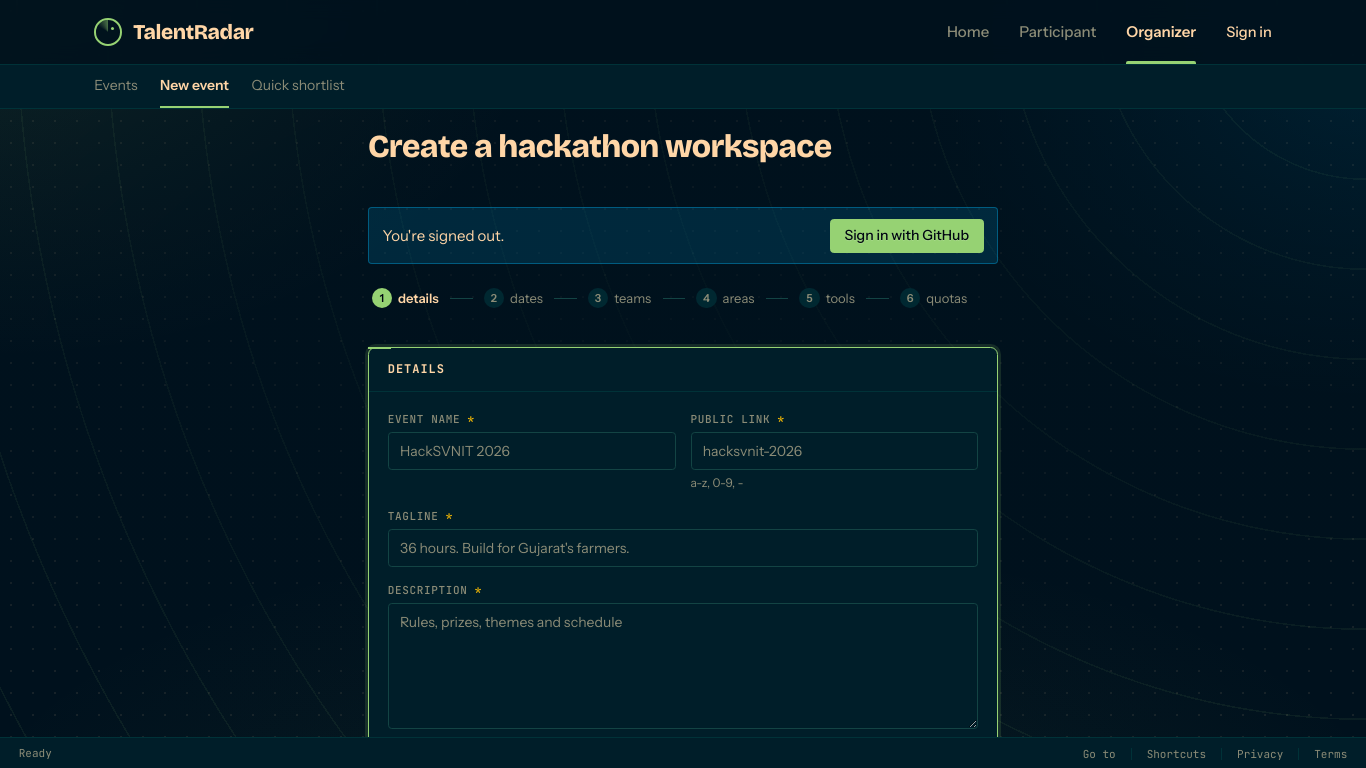
it: TalentRadar application shell › provides a separate organizer console and validates the event wizard
Expected: the heading "Create a hackathon workspace" is shown, [368,128,832,166]
Type "Build Night" into the field labelled "Event name *" at (532, 451), box [388,432,676,470]
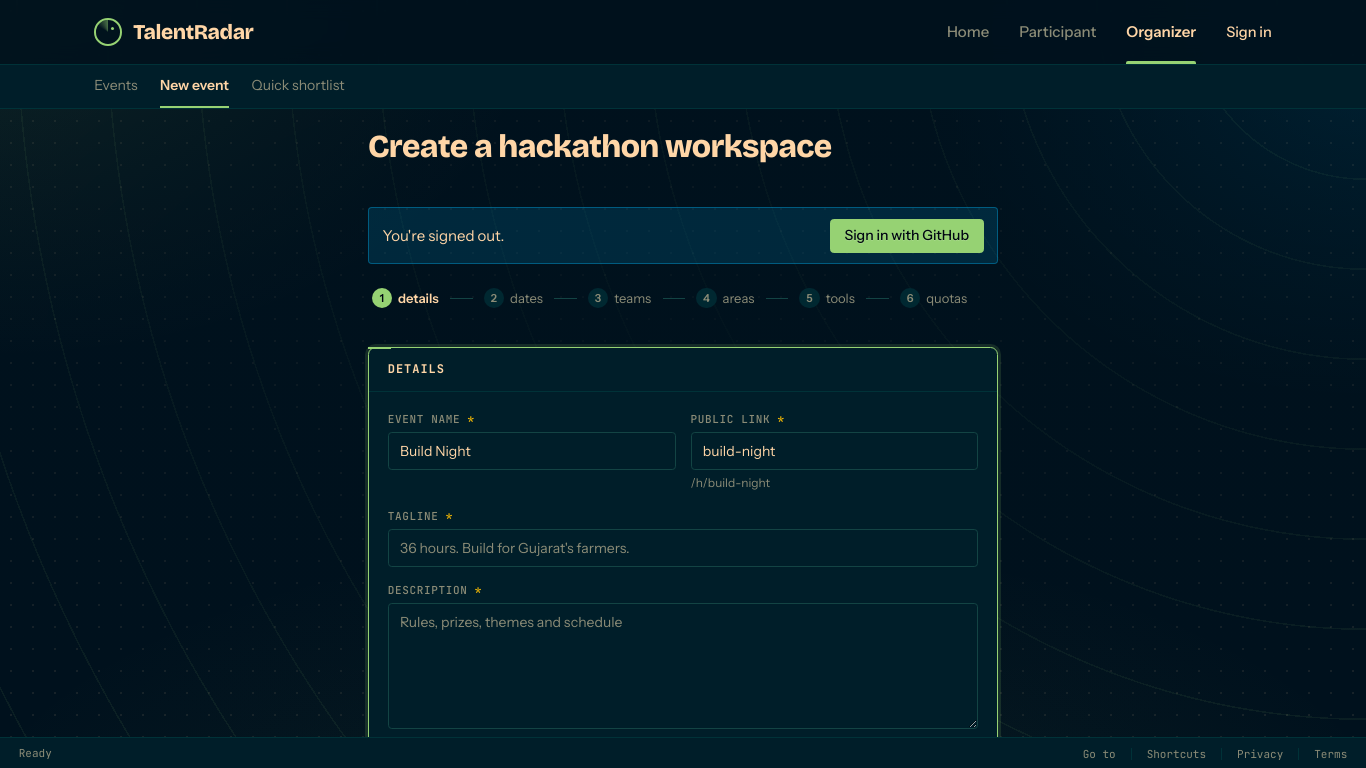
Type "Build a useful product" into the field labelled "Tagline *" at (683, 548), box [388,529,978,567]
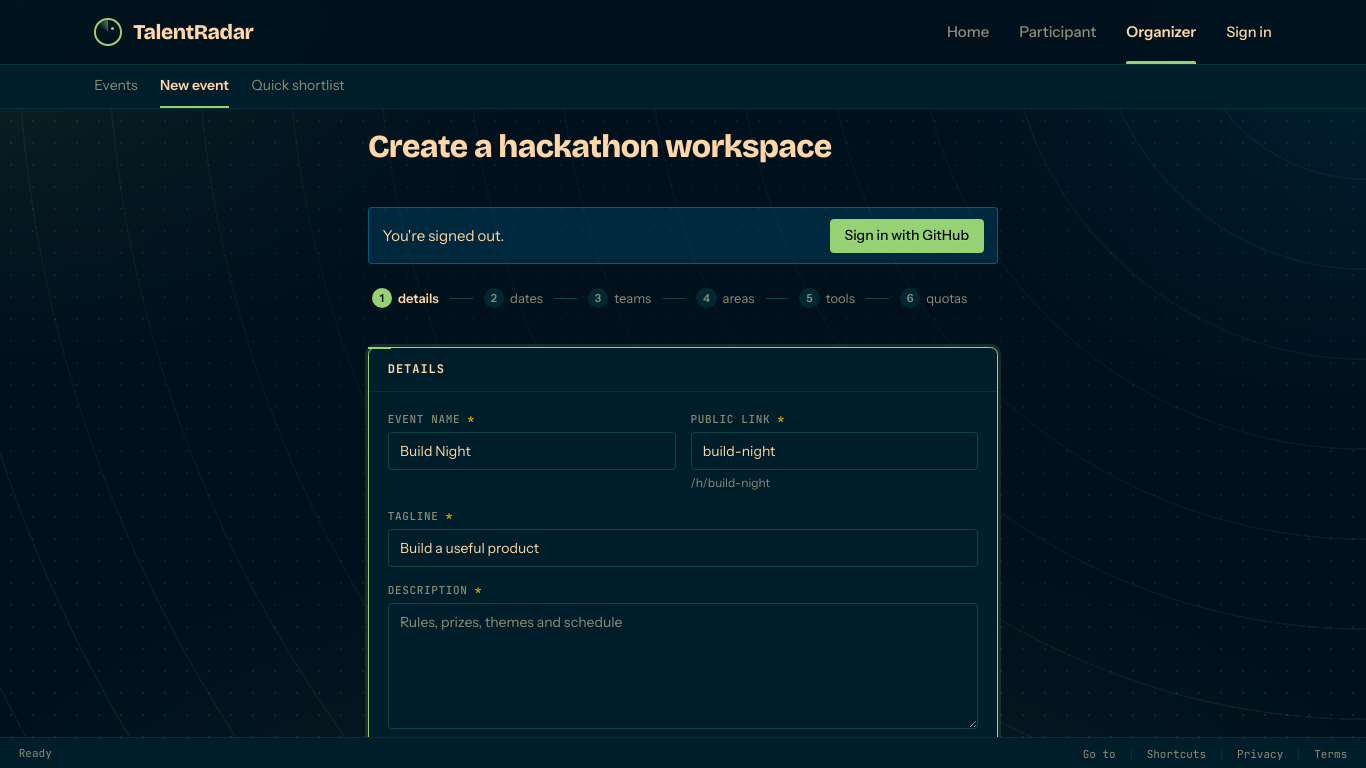
Type "A focused overnight hackathon." into the text box labelled "Description *" at (683, 666), box [388,603,978,729]
(page scrolled)
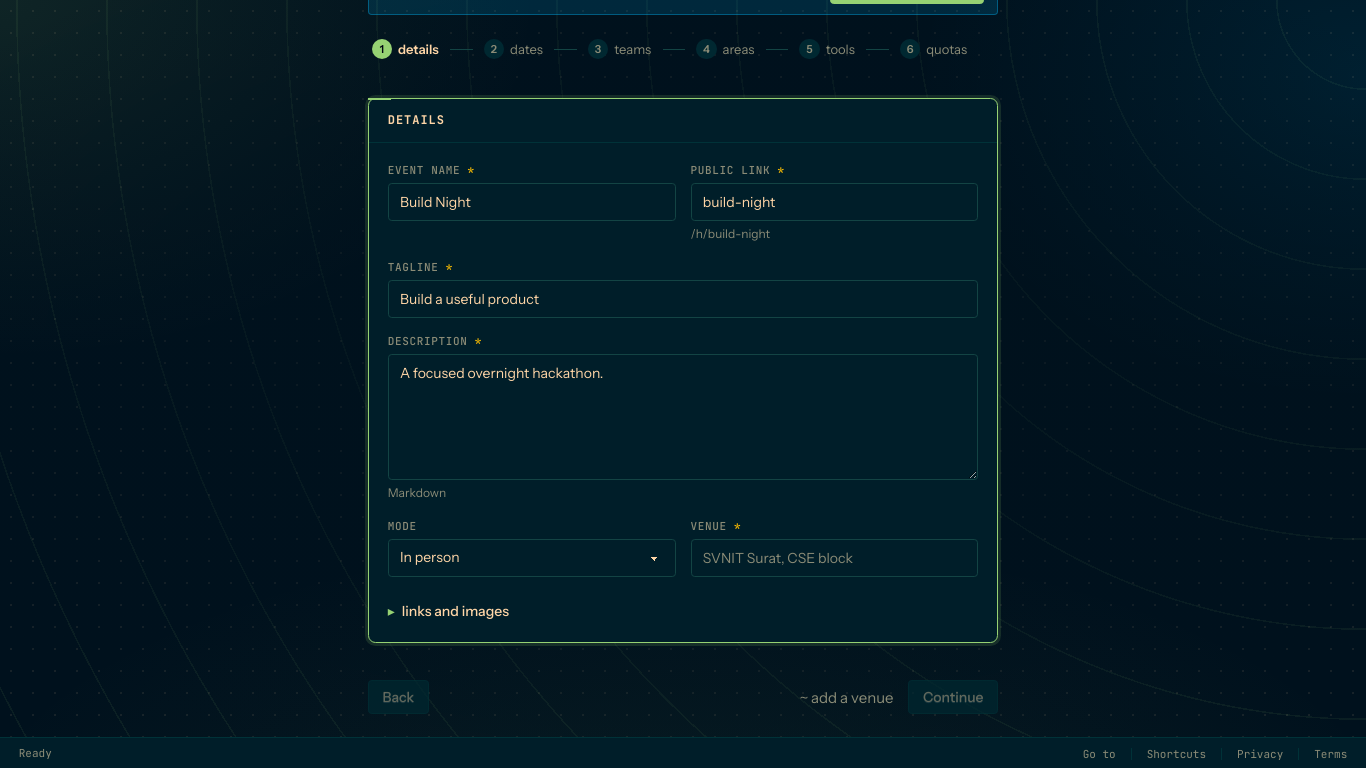
Type "Innovation Centre" into the field labelled "Venue *" at (834, 558), box [690,540,978,577]
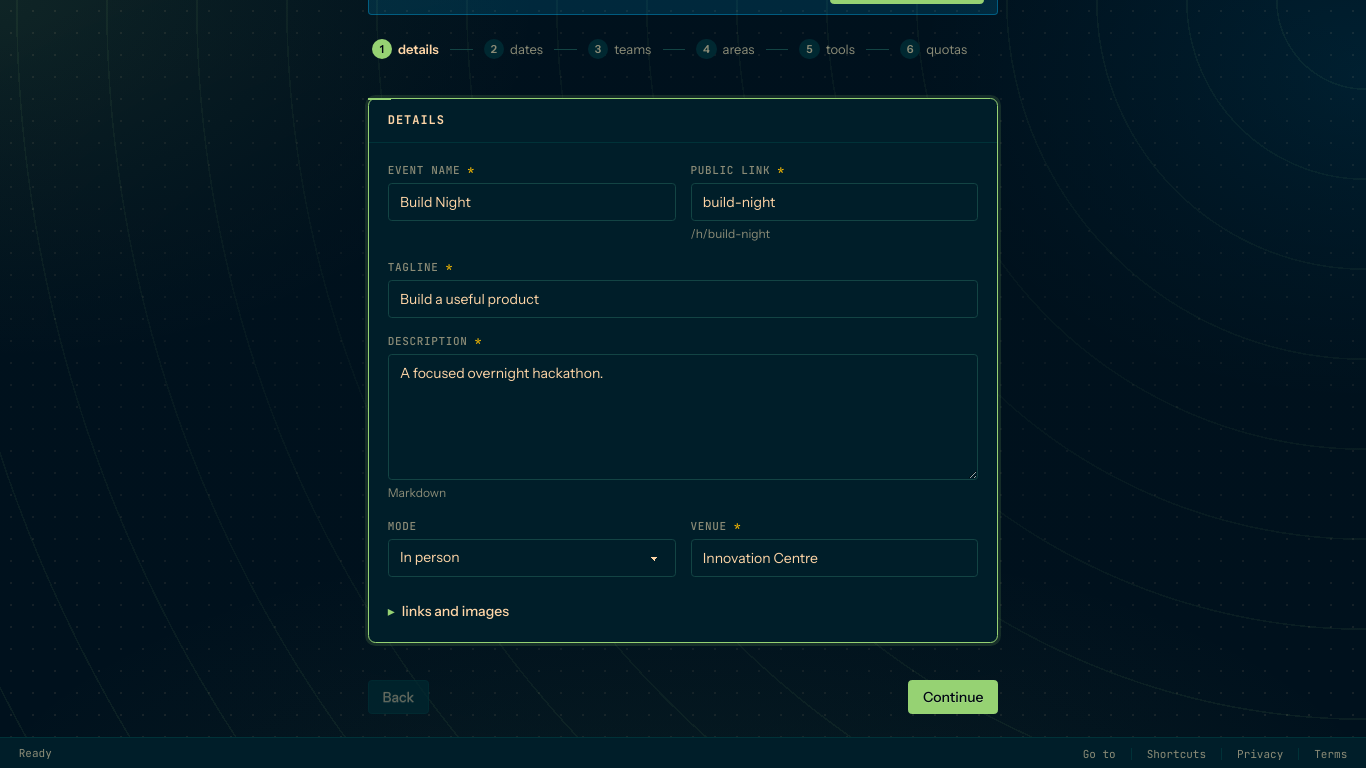
Click the button "Continue" at (953, 697), box [908,680,998,714]
(page scrolled)
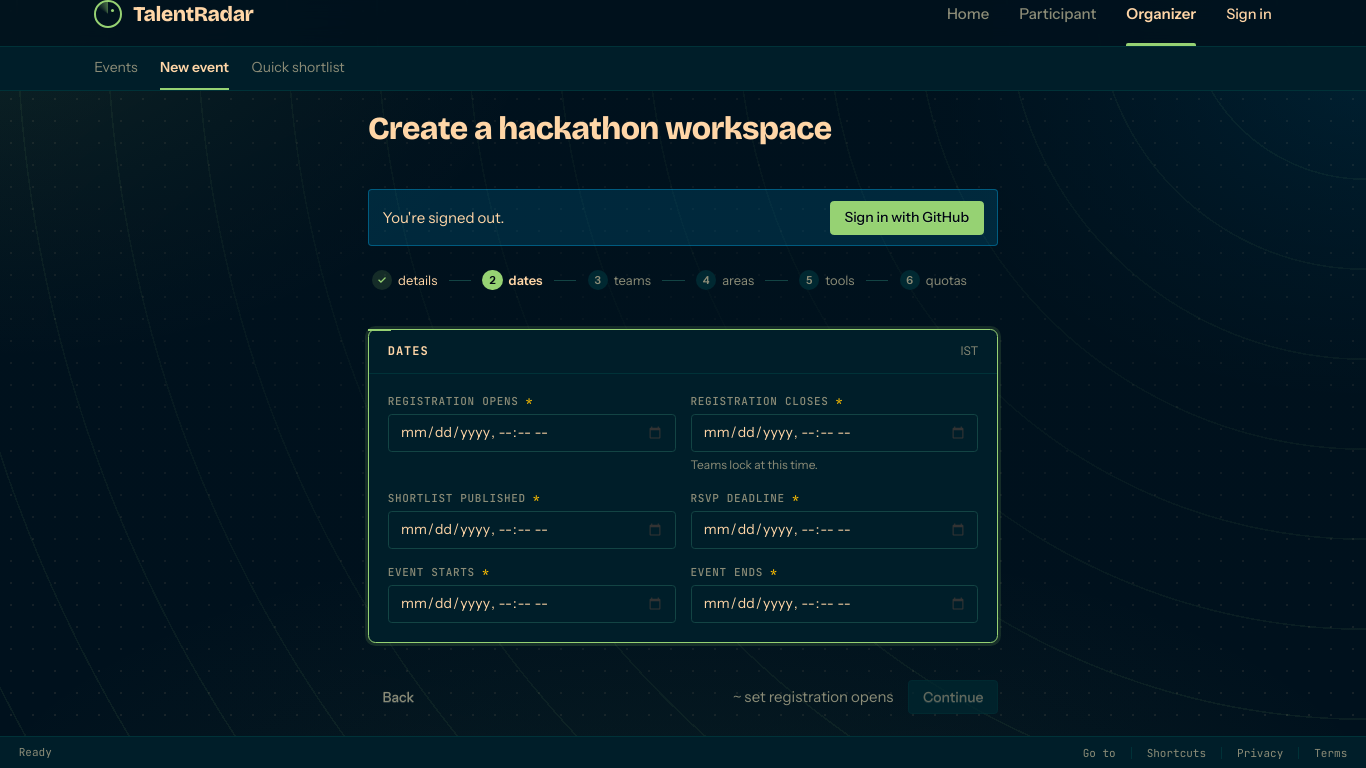
Expected: the text "Teams lock at this time." is shown, [690,457,818,472]
